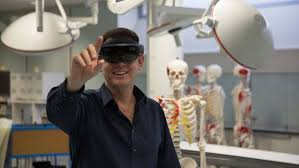hololens: (96, 42, 147, 64)
